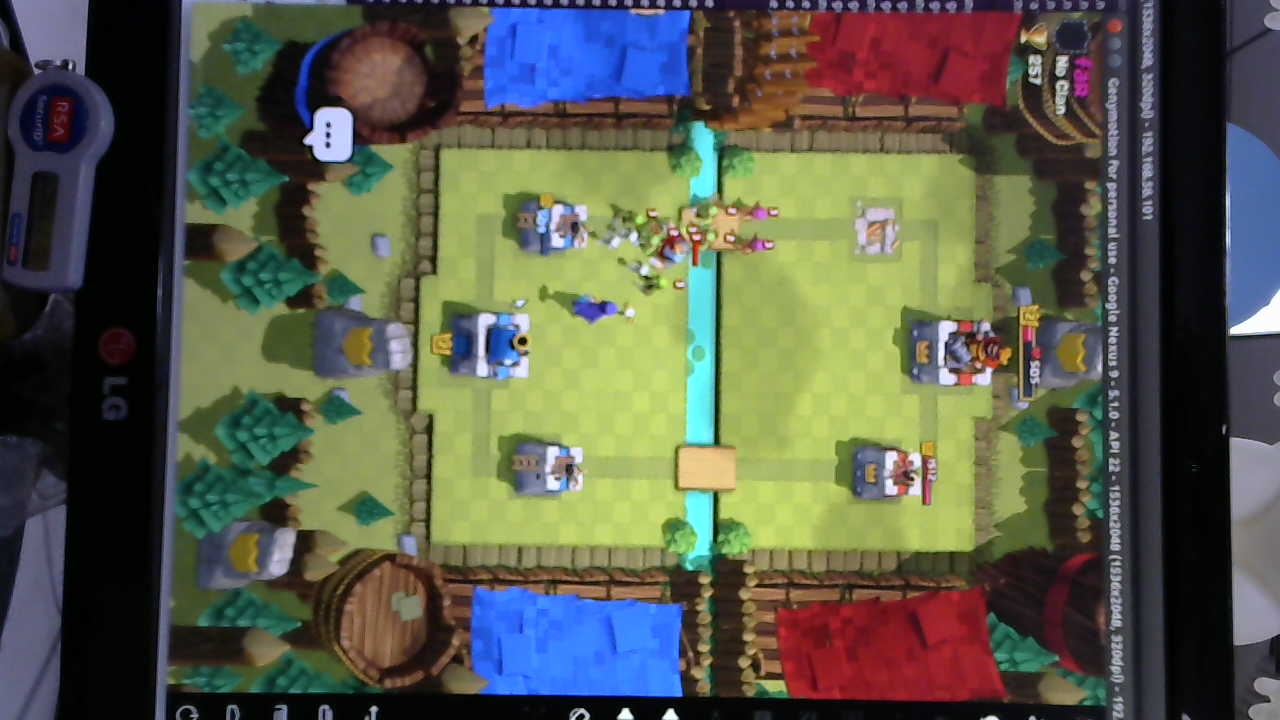archers: (739, 198, 778, 260)
arena: (514, 195, 590, 260), (517, 439, 590, 499)
darena: (848, 197, 907, 263)
earena: (850, 440, 925, 504)
eking: (909, 312, 1023, 390)
king: (445, 308, 534, 381)
knight: (651, 228, 698, 267)
skeleton: (604, 226, 653, 278)
speargoblin: (638, 271, 676, 299)
speargoblins: (621, 203, 669, 245), (688, 195, 726, 247)
witch: (563, 287, 631, 329)
